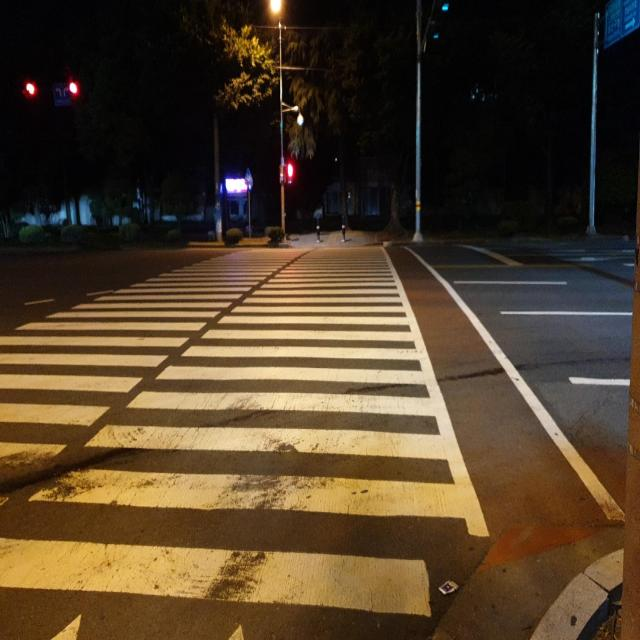빨간불: (288, 161, 293, 186)
횡단보도: (0, 245, 491, 639)
